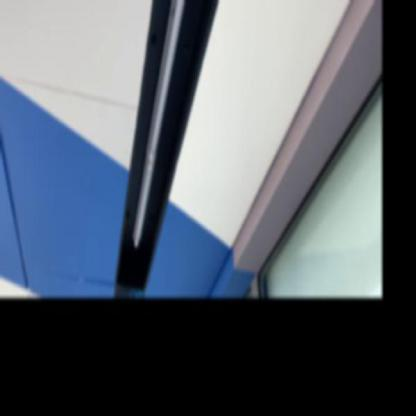light_off: (121, 0, 213, 253)
